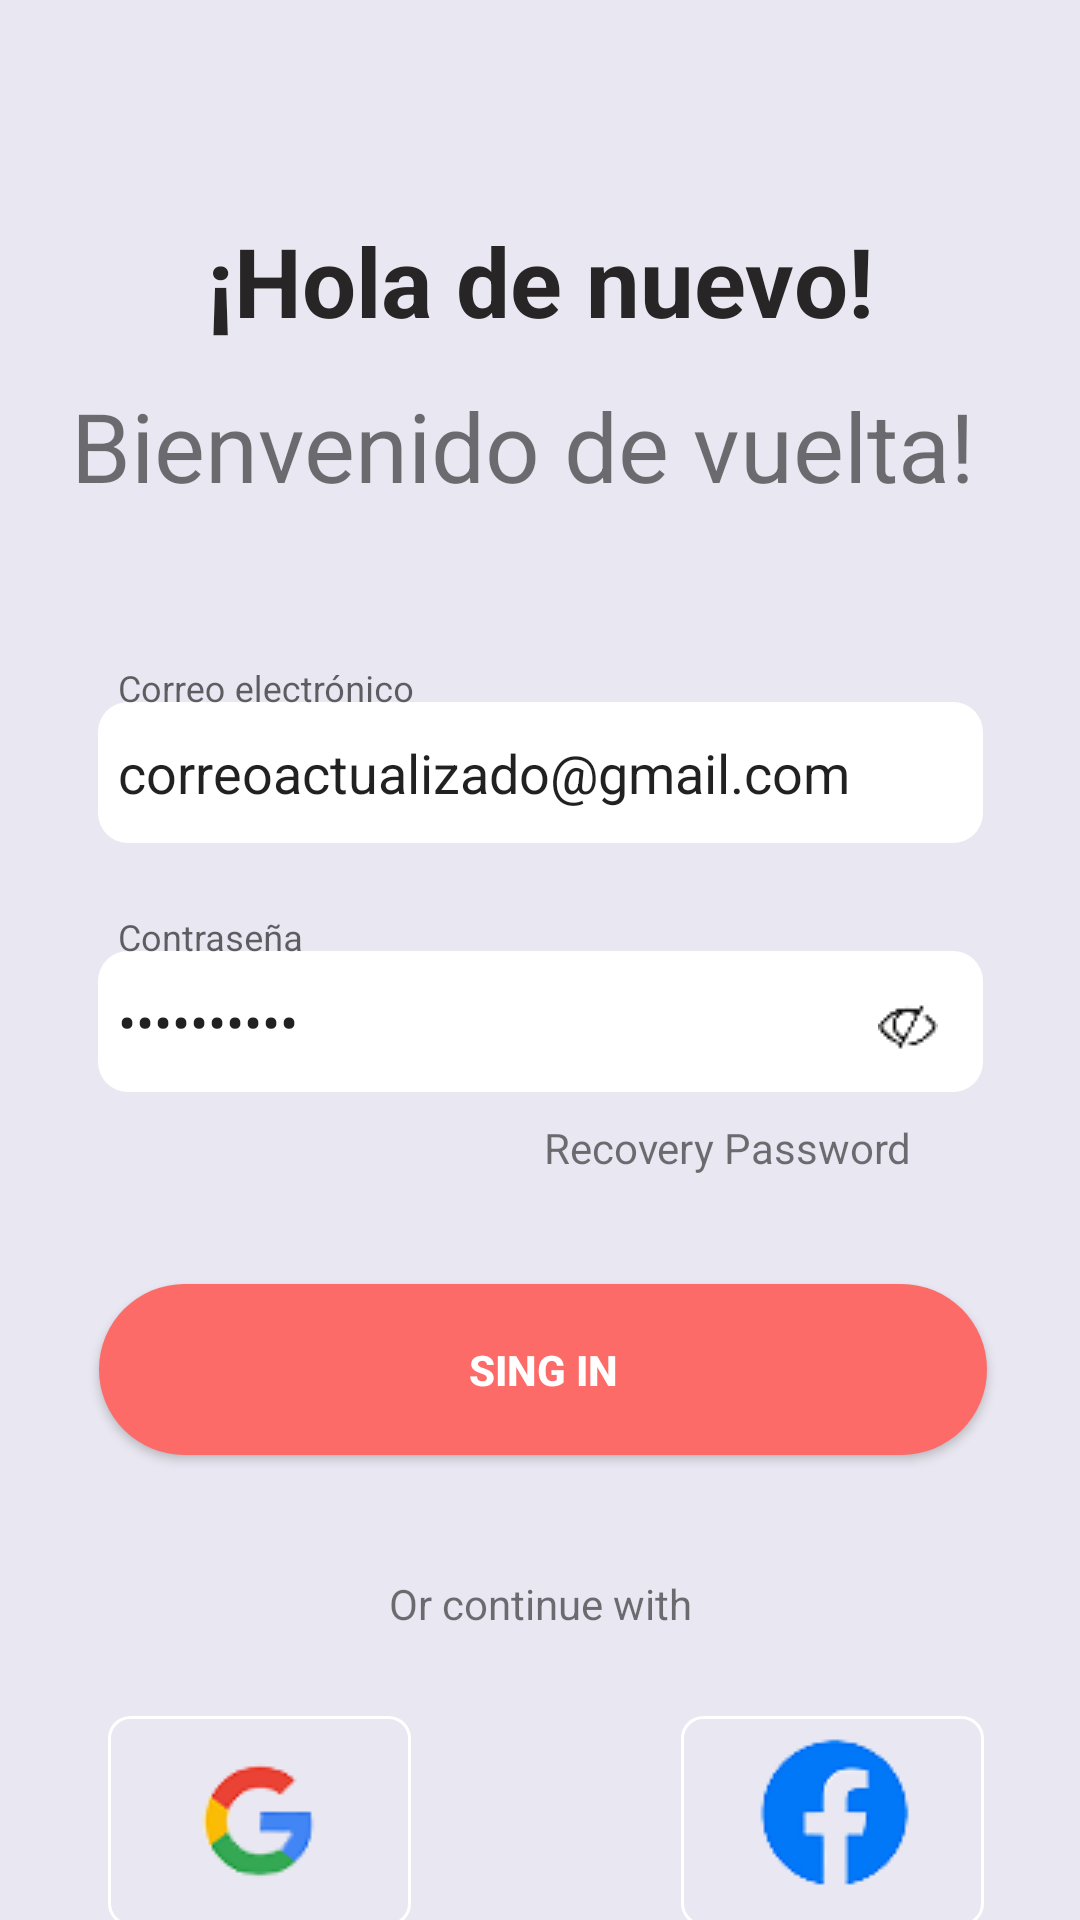

Screen size 1080*1920. Icon name, then its box in pixels as (x1, y1, x2, y2):
eye: (878, 1005, 938, 1049)
